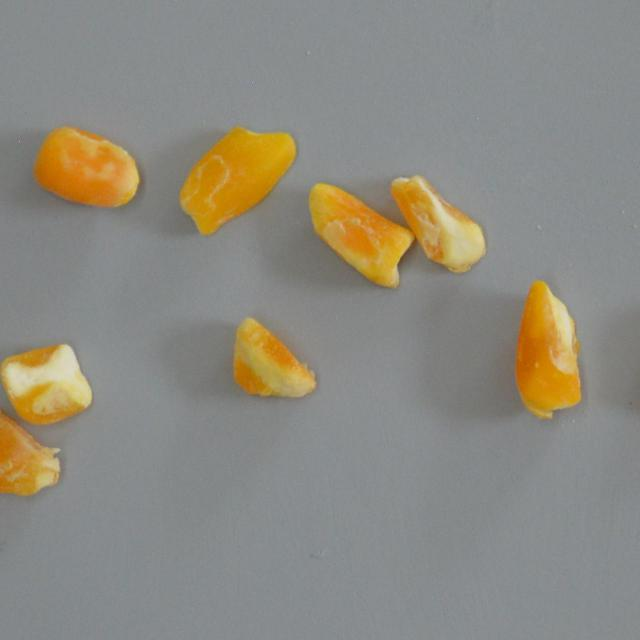estandar: (514, 280, 582, 420)
no_canjicado: (0, 342, 91, 424)
pelicula: (175, 124, 298, 238), (308, 180, 413, 292), (390, 170, 487, 276), (34, 122, 142, 212), (232, 316, 316, 399), (0, 403, 68, 498)
